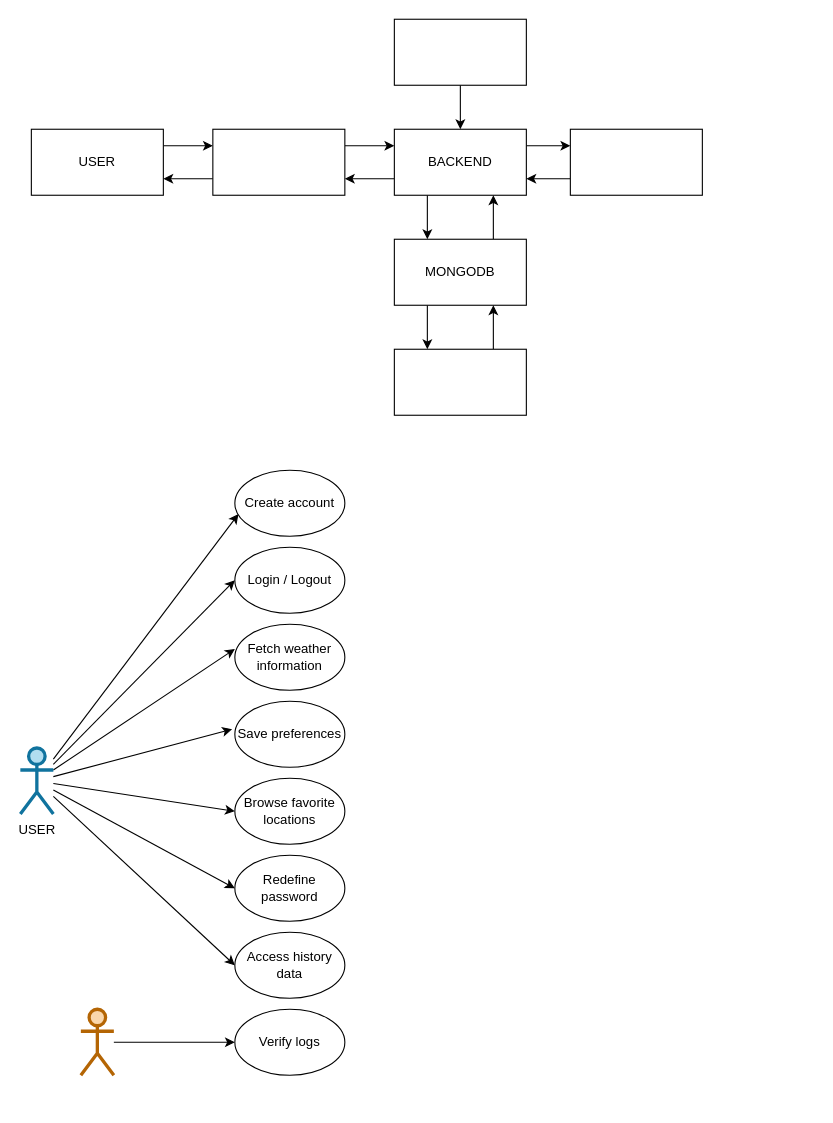
The diagram is 833 pixels wide and 1123 high, and some of its shapes have lost their labels. The shapes that lost their labels are listed below. From the top down, each one's box as (x1, y1, x2, y2) in pixels, then its label:
(393, 18, 526, 85): MONITORING / LOGGING
(212, 128, 345, 195): CLI / UI
(569, 128, 702, 195): API
(393, 348, 526, 415): CACHE
(79, 1007, 115, 1076): Admin
